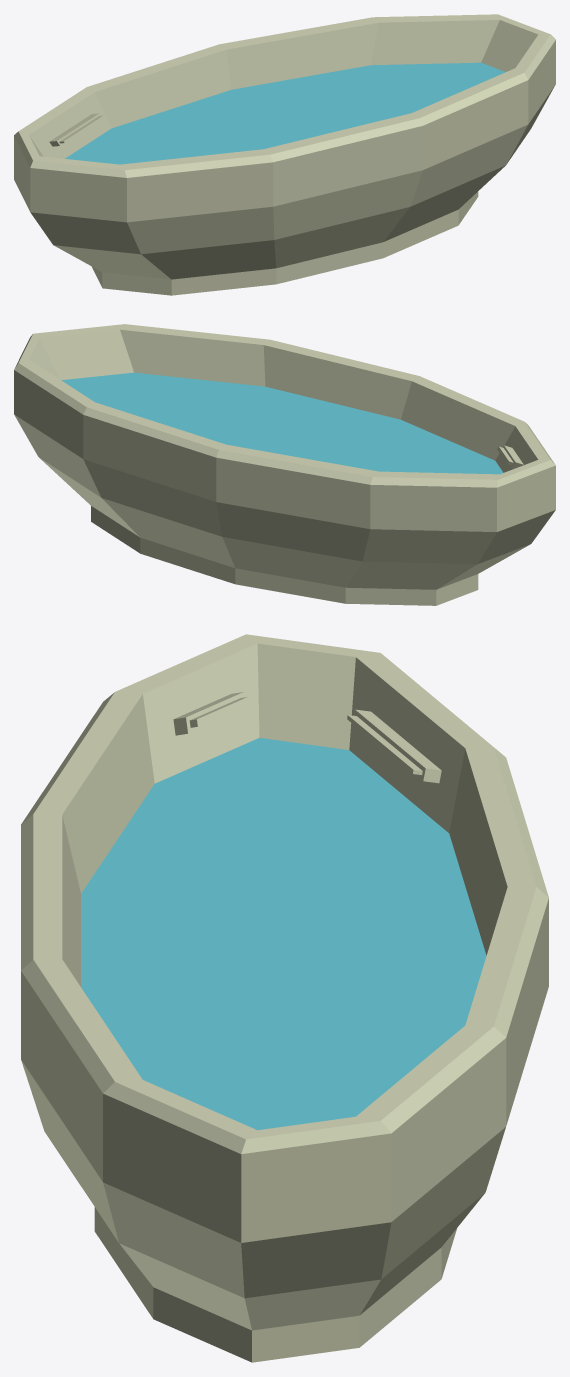
File: Bathtub_Material.fbx
The picture shows the model from 3 angles, top to bottom: view 1: azimuth 30°, elevation 25°; view 2: azimuth 150°, elevation 25°; view 3: azimuth 270°, elevation 25°; orthographic projection. The views are drawn at different scales.
Visible parts, largest first — view 1: Bathtub; view 2: Bathtub; view 3: Bathtub.
Part boxes in pixels (box(x1,y1,x2,y2)): Bathtub: box(14, 14, 555, 295); Bathtub: box(14, 324, 555, 605); Bathtub: box(21, 634, 548, 1362).
Size of the model in its own units: 1.55 by 0.4109 by 0.6724.
